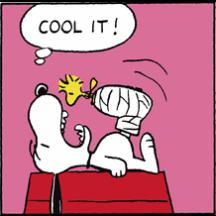snoopy: (28, 82, 160, 214)
